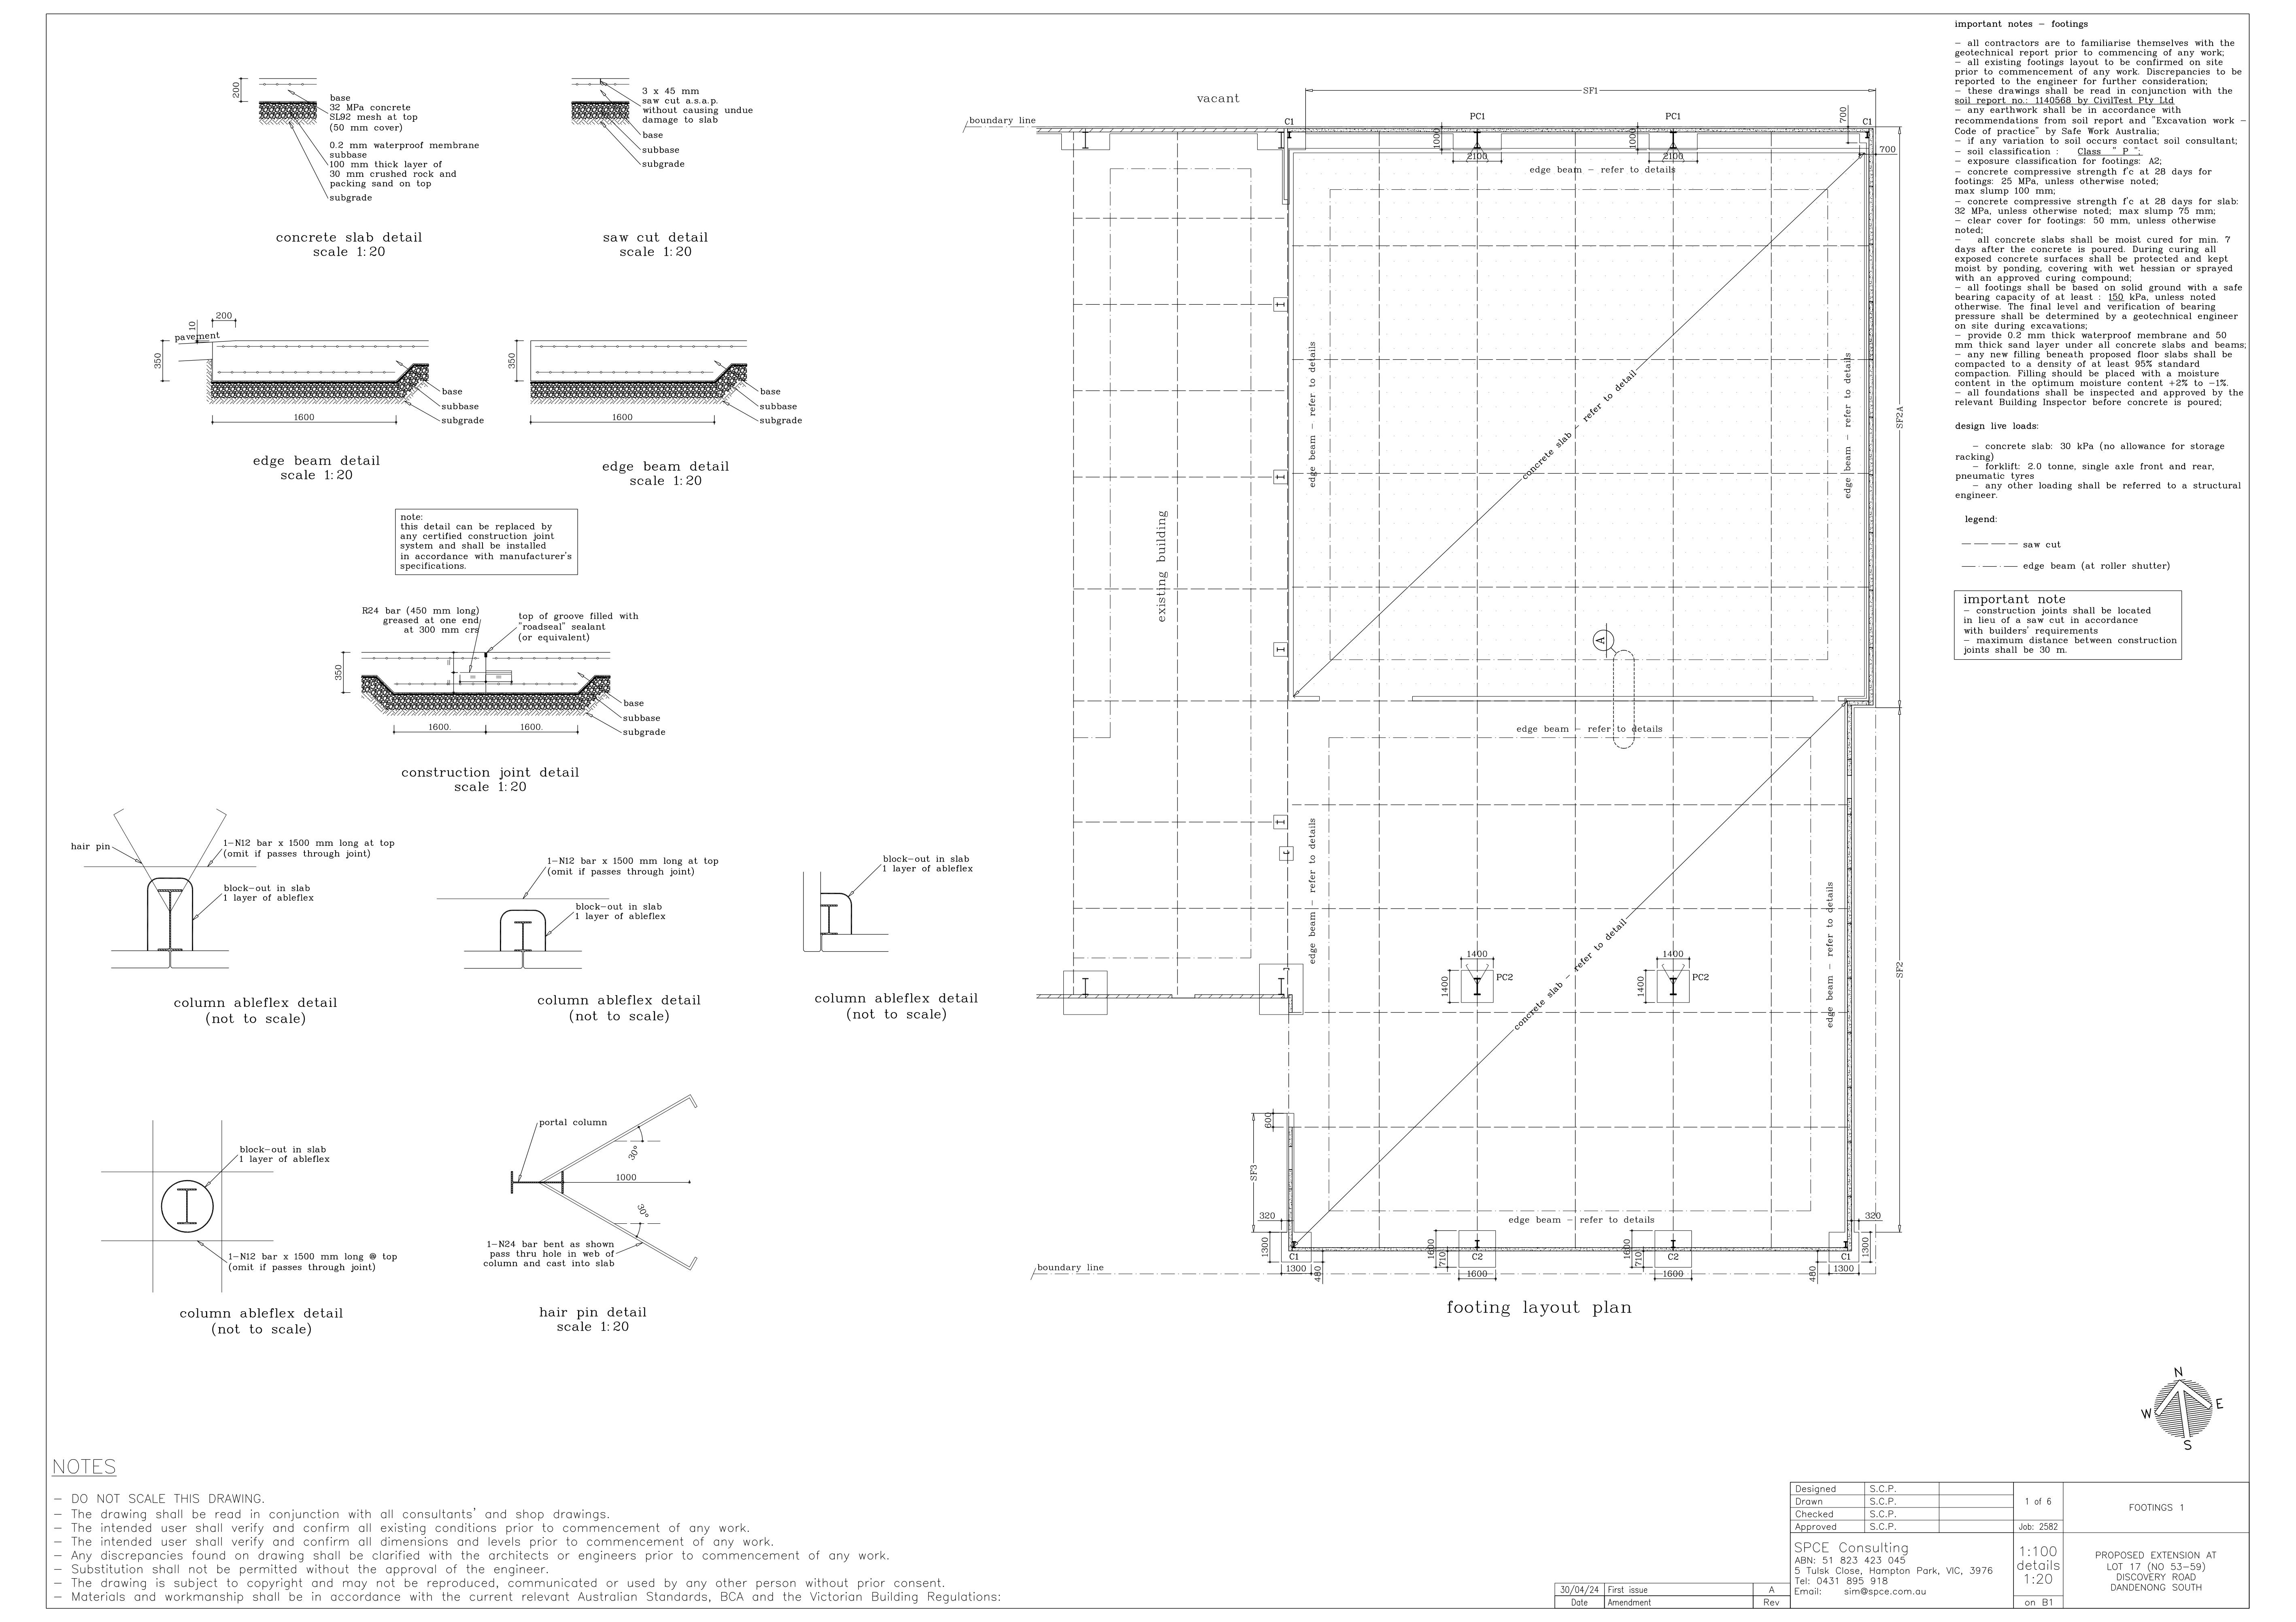C1: (1859, 111, 1876, 128), (1280, 111, 1299, 126), (1836, 1252, 1852, 1264), (1283, 1253, 1306, 1260)
C2: (1469, 1250, 1487, 1264), (1666, 1252, 1682, 1264)
PC1: (1464, 104, 1492, 125), (1657, 105, 1689, 123)
PC2: (1492, 969, 1520, 983), (1694, 971, 1717, 985)
